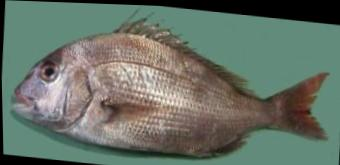fish: (12, 14, 328, 155)
